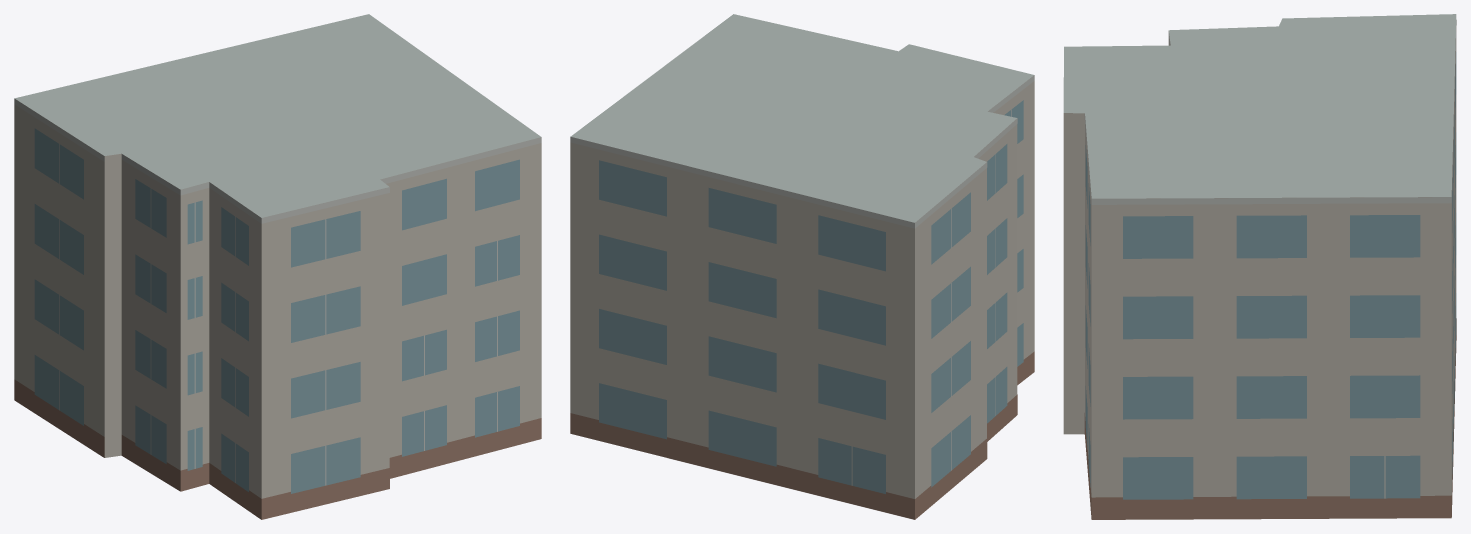
The model's file is survey-upis-32840898.glb.
3 views of the same model, side by side, from view 1: azimuth 30°, elevation 25°; view 2: azimuth 150°, elevation 25°; view 3: azimuth 270°, elevation 25° (orthographic). The views are drawn at different scales.
Parts seen in each view (by area): view 1: survey-upis-32840898.tmp; view 2: survey-upis-32840898.tmp; view 3: survey-upis-32840898.tmp.
Part boxes in pixels (box(x1,y1,x2,y2)): survey-upis-32840898.tmp: box(14, 14, 541, 519); survey-upis-32840898.tmp: box(570, 14, 1034, 519); survey-upis-32840898.tmp: box(1063, 14, 1456, 519).
Size of the model in its own units: 15.55 by 12.6 by 13.98.
